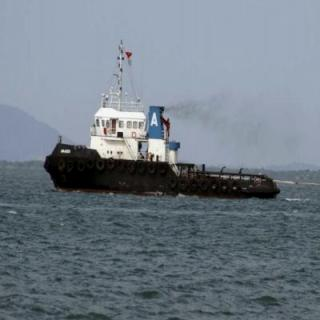Tug Boat: (42, 44, 278, 198)
